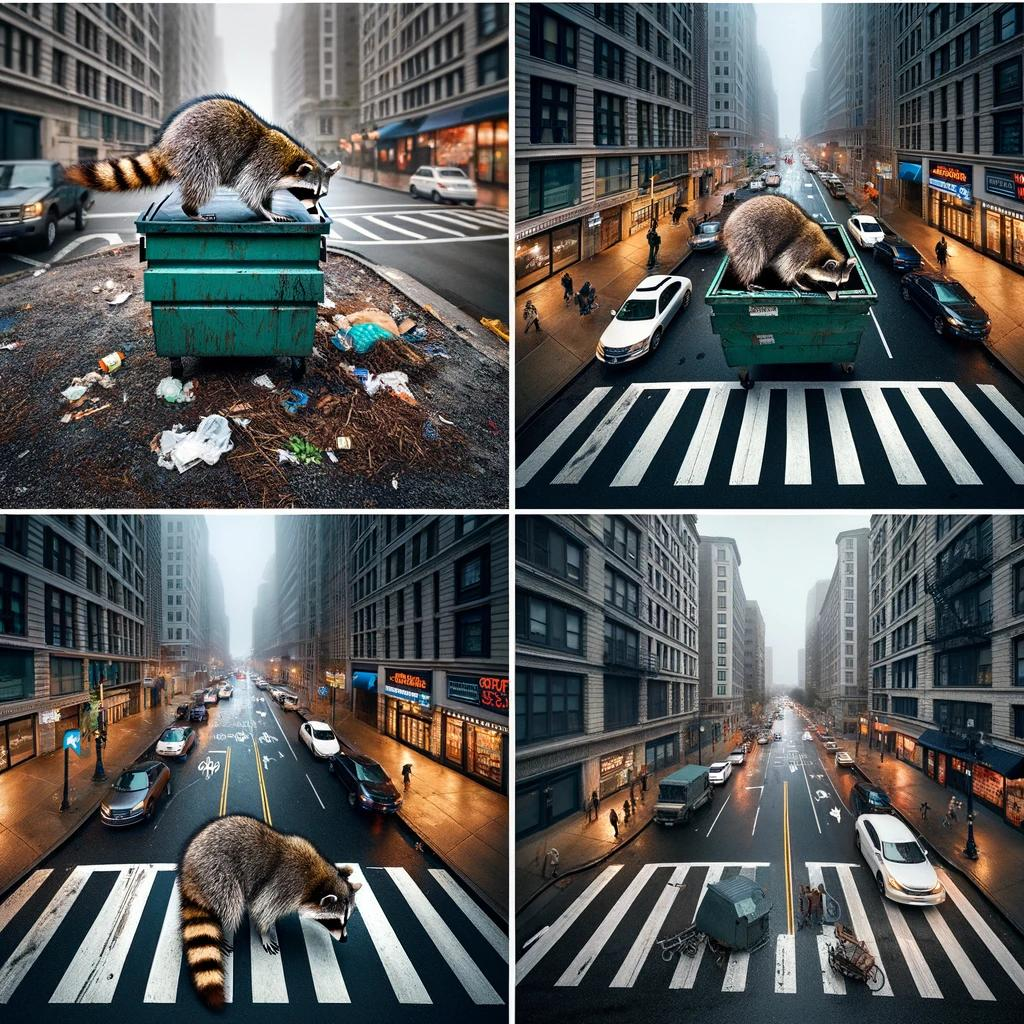raccoon: (168, 805, 370, 1024), (55, 85, 348, 223), (717, 185, 860, 303)
